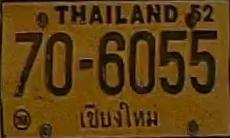0: (44, 32, 72, 96), (128, 30, 154, 94)
5: (158, 30, 186, 94), (190, 30, 218, 94)
6: (98, 31, 124, 94)
7: (14, 32, 42, 98)
CMI: (77, 101, 164, 134)
